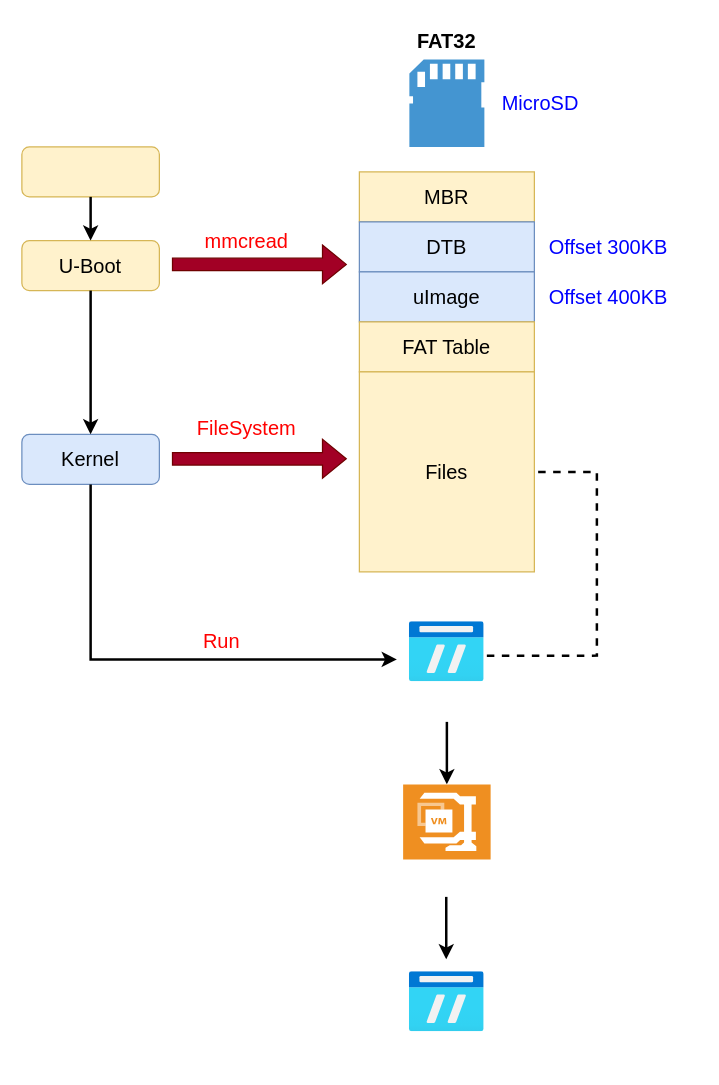
The diagram is 719 pixels wide and 1085 high, and some of its shapes have lost their labels. Here are the shapes that lost their labels. From the top down, the centre of each, then its label:
(90,171): Loader
(446,651): mininit
(446,821): rootfs.squashfs
(446,1001): /sbin/init
